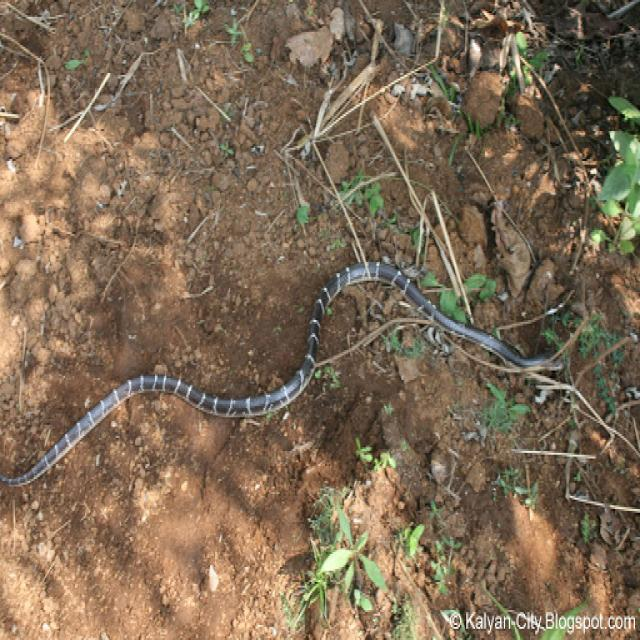Snake: (0, 256, 565, 488)
